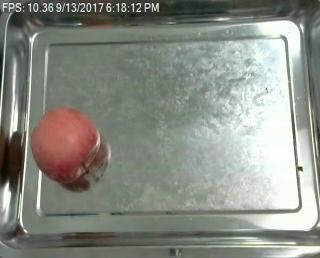apple: (29, 106, 101, 184)
